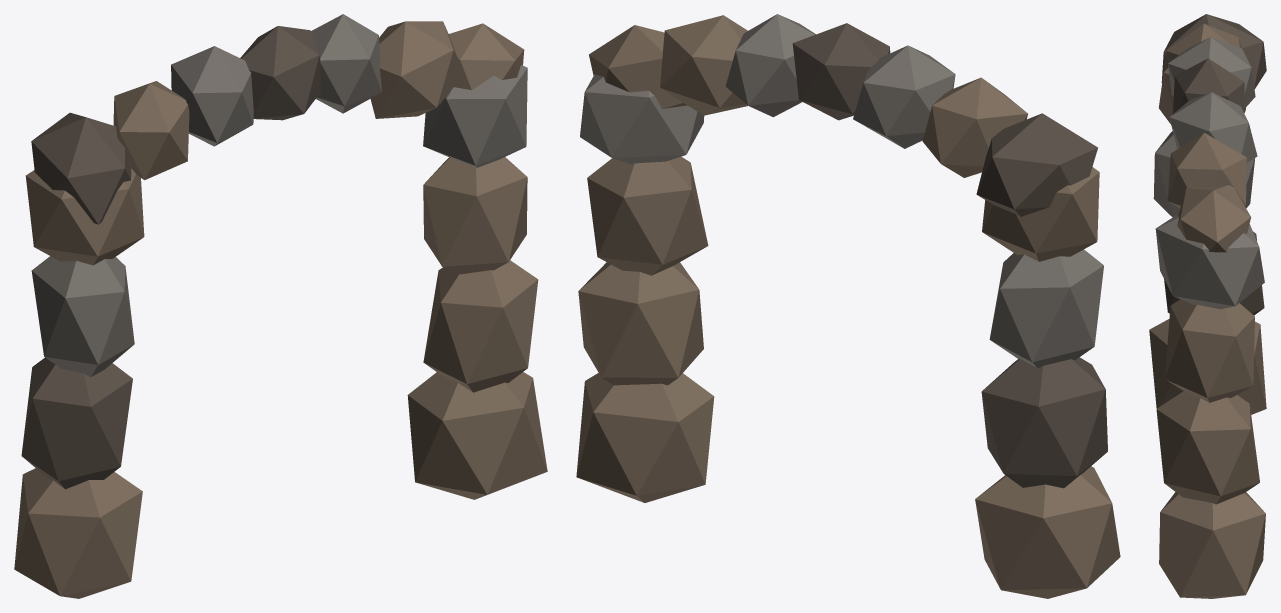
The model's file is mine_rock_arch.glb.
The picture shows the model from 3 angles, left to right: view 1: azimuth 30°, elevation 25°; view 2: azimuth 150°, elevation 25°; view 3: azimuth 270°, elevation 25°; orthographic projection. The views are drawn at different scales.
Parts seen in each view (by area): view 1: mine_rock_arch; view 2: mine_rock_arch; view 3: mine_rock_arch.
Part boxes in pixels (x1,y1,x2,y2): mine_rock_arch: (14,14,547,598); mine_rock_arch: (576,14,1120,598); mine_rock_arch: (1149,14,1266,598).
Size of what is drawn, in the model's own units: 3.97 by 3.87 by 0.9028.
